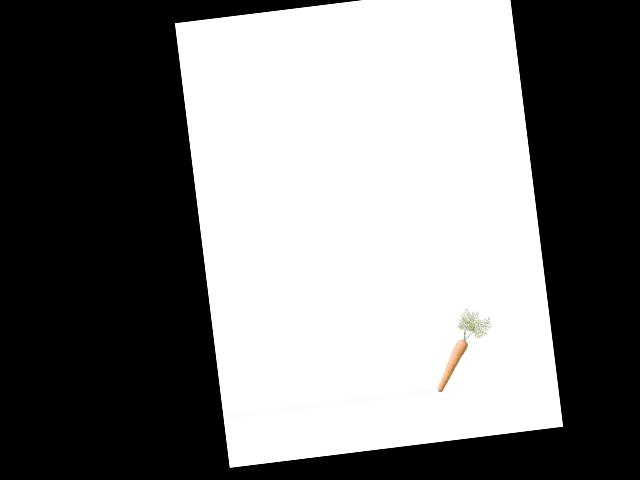carrot: (429, 333, 475, 394)
